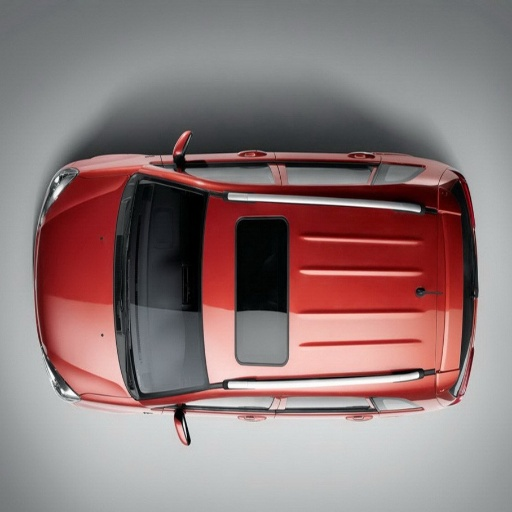tailgate: (137, 289, 188, 392)
trunk: (207, 222, 461, 390), (45, 451, 147, 496), (431, 448, 494, 485)
